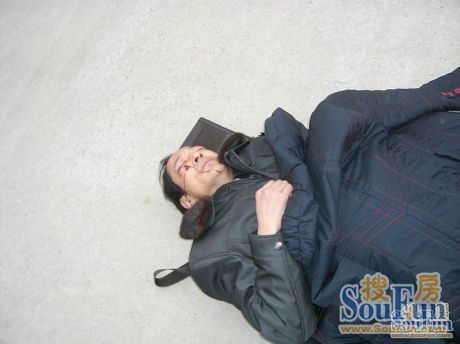fall: (151, 73, 455, 344)
